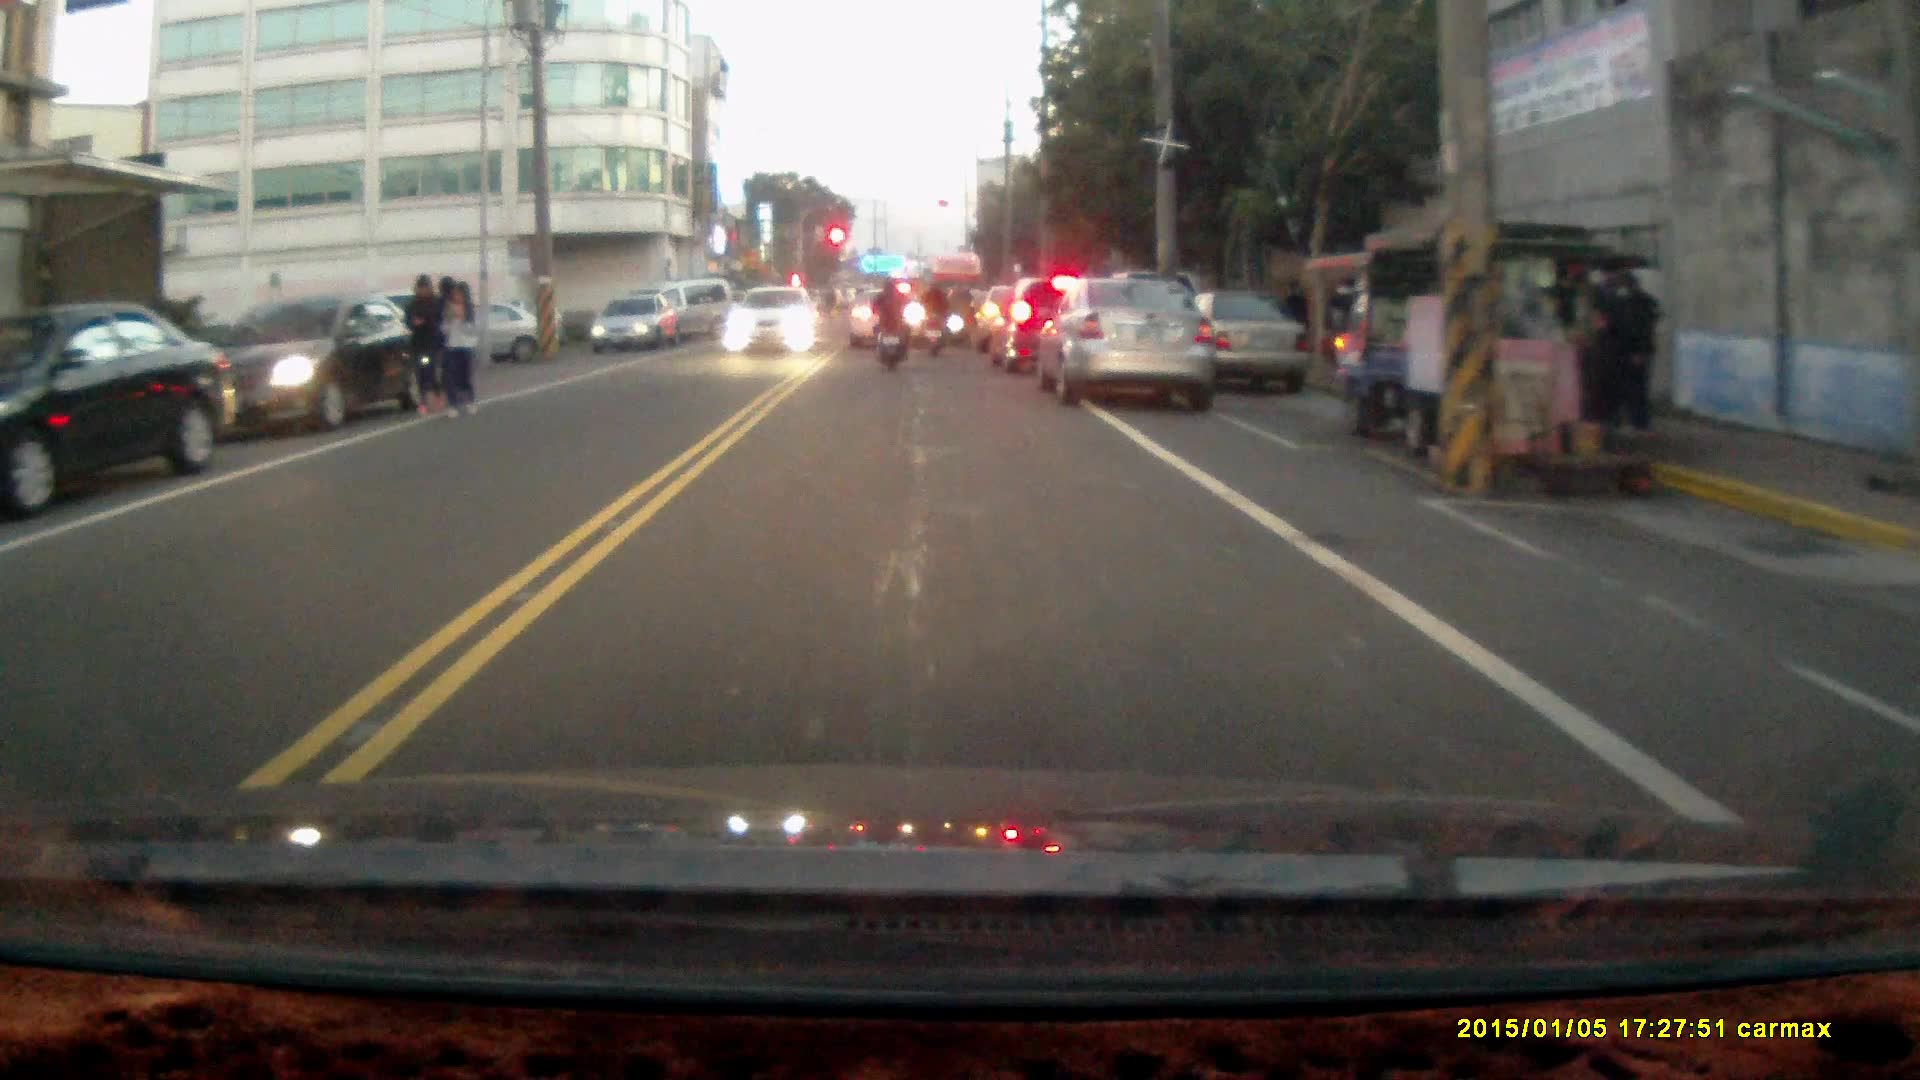pedestrian: (1603, 270, 1662, 435), (404, 278, 447, 429), (440, 285, 480, 430), (1276, 278, 1310, 351)
rider: (867, 276, 908, 370), (916, 280, 948, 358)
vehicle: (1334, 229, 1645, 471), (0, 296, 244, 516), (178, 297, 429, 447), (1041, 275, 1219, 408), (723, 290, 819, 355), (850, 294, 931, 357), (593, 296, 679, 354)
